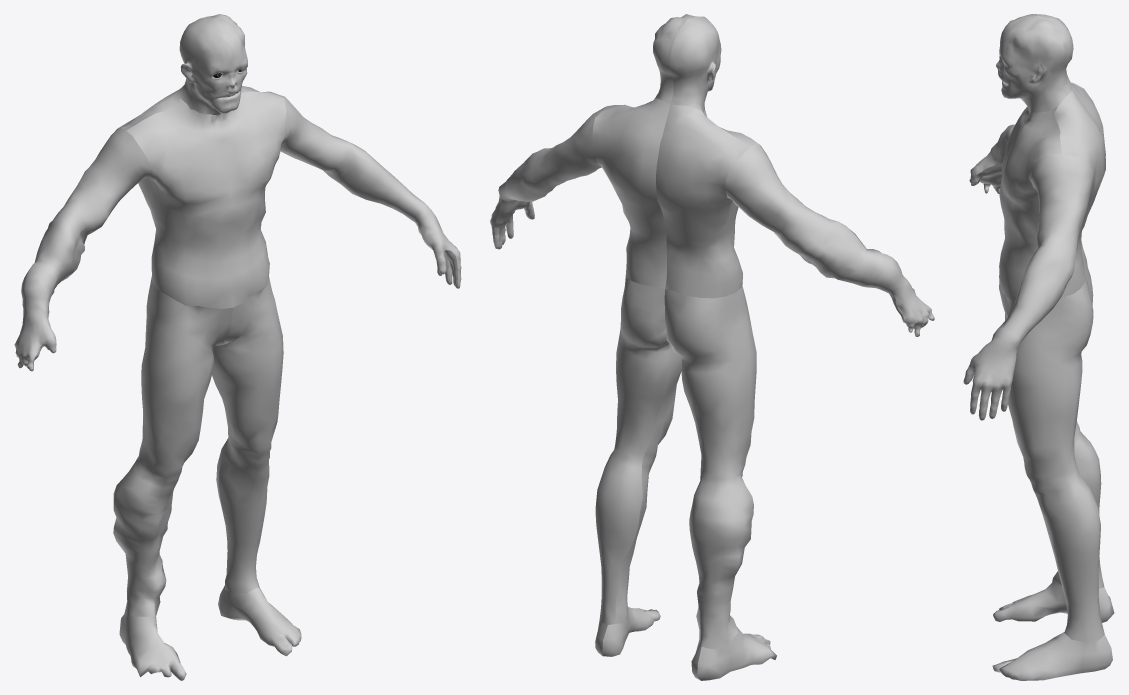
File: Patient-3.obj
The picture shows the model from 3 angles, left to right: view 1: azimuth 30°, elevation 25°; view 2: azimuth 150°, elevation 25°; view 3: azimuth 270°, elevation 25°; orthographic projection.
Visible parts, largest first — view 1: Patient_3_chest, Patient_3_legs, Patient_3_head; view 2: Patient_3_legs, Patient_3_chest, Patient_3_head; view 3: Patient_3_legs, Patient_3_chest, Patient_3_head.
Part boxes in pixels (x1,y1,x2,y2): Patient_3_chest: [14, 85, 461, 371]; Patient_3_legs: [113, 276, 301, 680]; Patient_3_head: [179, 14, 247, 115]; Patient_3_legs: [595, 273, 776, 680]; Patient_3_chest: [490, 98, 934, 336]; Patient_3_head: [653, 14, 721, 112]; Patient_3_legs: [992, 260, 1114, 680]; Patient_3_chest: [963, 82, 1105, 420]; Patient_3_head: [996, 14, 1073, 113].
Size of the model in its own units: 135 by 187 by 40.6.
